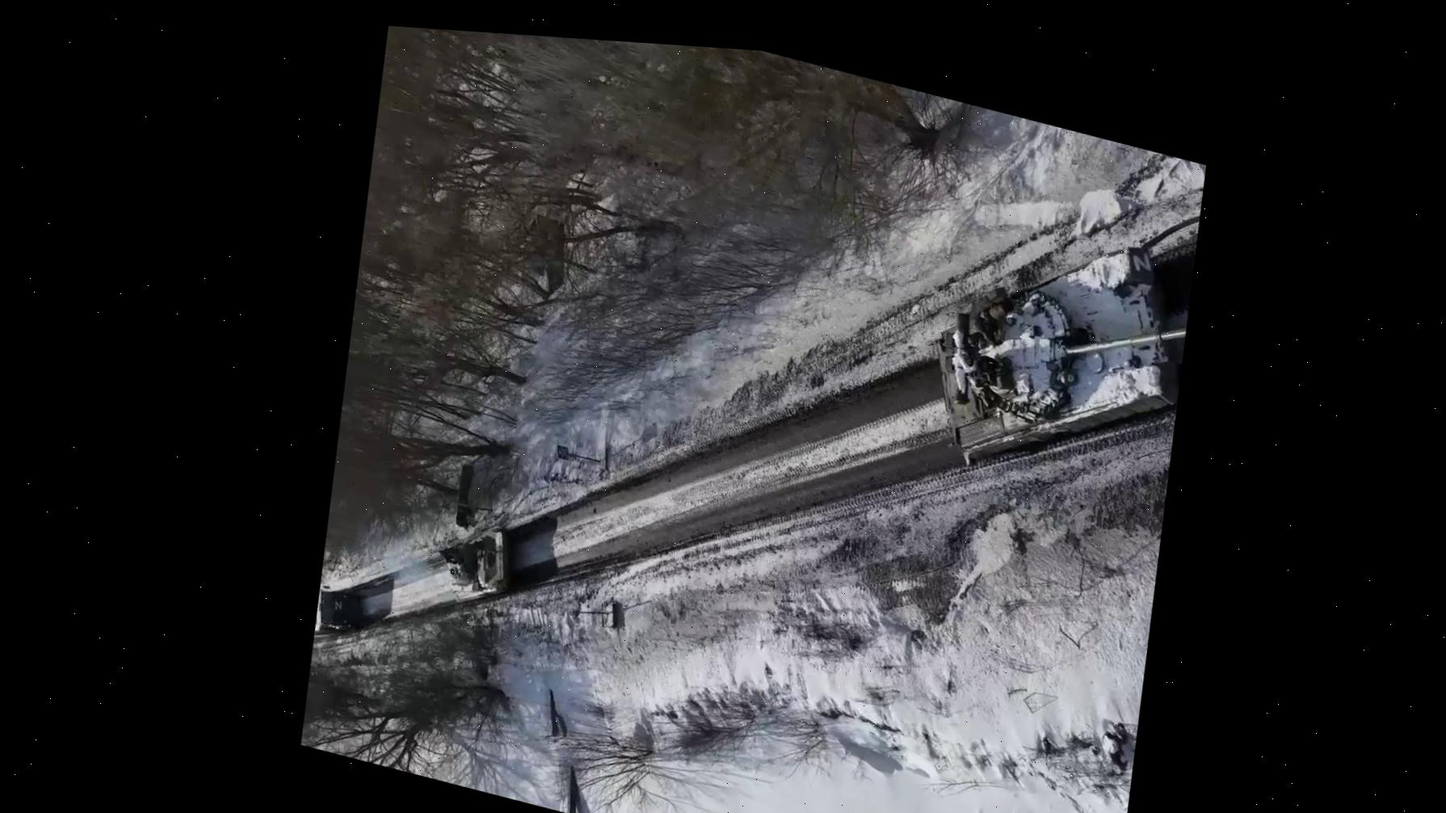tank: (896, 190, 1214, 517), (423, 509, 535, 620)
truck: (308, 573, 369, 651)
